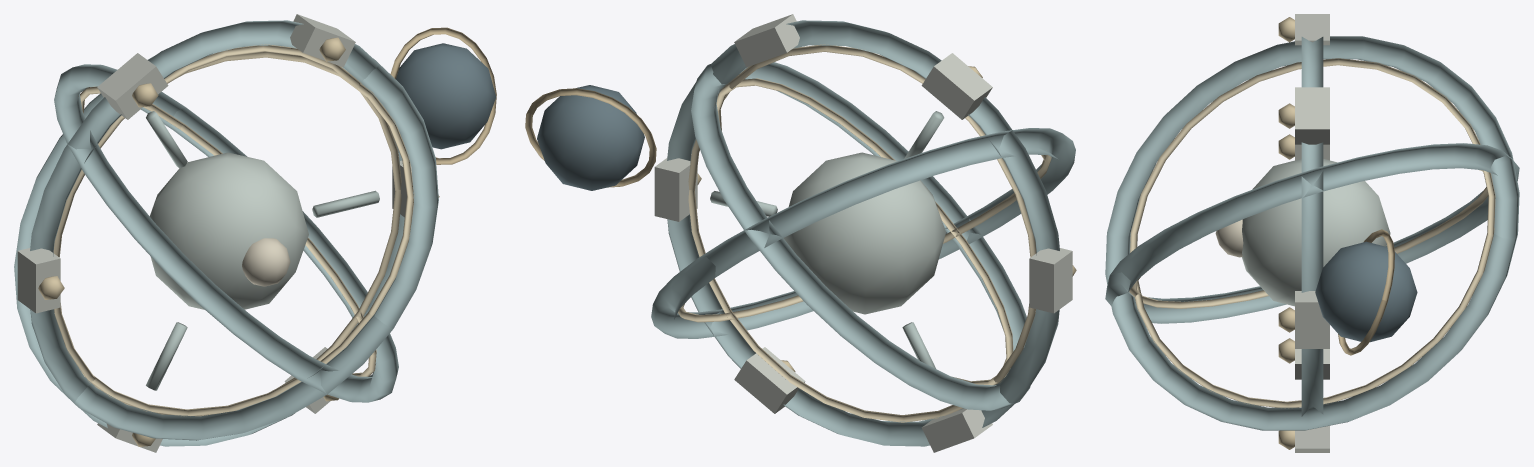
The model's file is ART-17.glb.
3 renders of one model, left to right at view 1: azimuth 30°, elevation 25°; view 2: azimuth 150°, elevation 25°; view 3: azimuth 270°, elevation 25°, orthographic. The views are drawn at different scales.
Visible parts, largest first — view 1: world; view 2: world; view 3: world.
Boxes of the visible parts, <box> form: world: <box>14,14,496,452</box>; world: <box>525,14,1076,452</box>; world: <box>1105,14,1519,452</box>.
Size of the model in its own units: 2 by 1.58 by 1.51.
